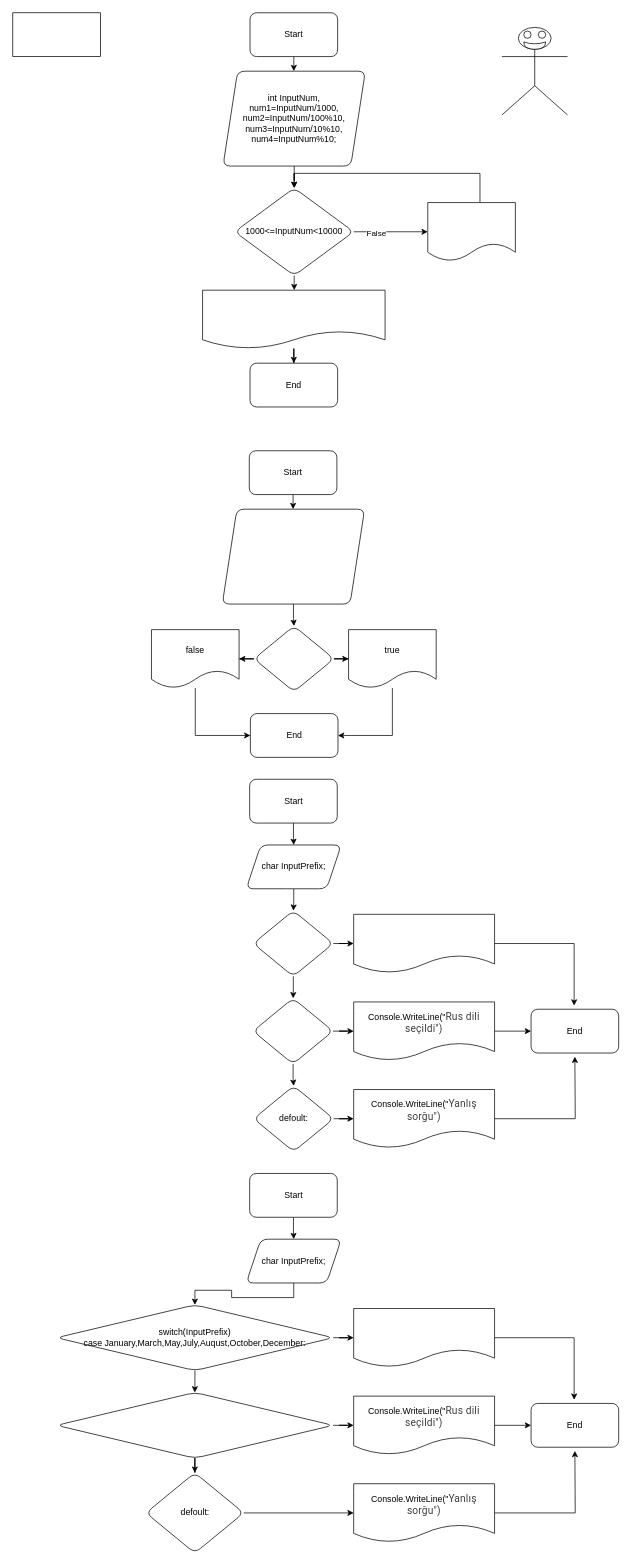
Some shapes in this 631 by 1566 pixel diagram are drawn without their labels. The centre of each missing label's shape, as x and y in pixels:
case b,B:: pixel 292 1031
case Febrary,April,June,September,November:: pixel 194 1425
Console.WriteLine(" 31"): pixel 424 1337
Console.WriteLine(" Azərbaycan dili seçildi"): pixel 424 943
Console.WriteLine(num1+num2+num3+num4): pixel 293 319
Gudrat Gudratli: pixel 534 71
int InputNum, num1=InputNum/100, num2=InputNum/10%10, num3=InputNum%10;: pixel 293 556
num1==num2 && num2==num3;: pixel 293 658
switch(InputPrefix) case a,A:: pixel 293 943
TASK #1: pixel 56 34
this number is not in the scope!: pixel 471 231
